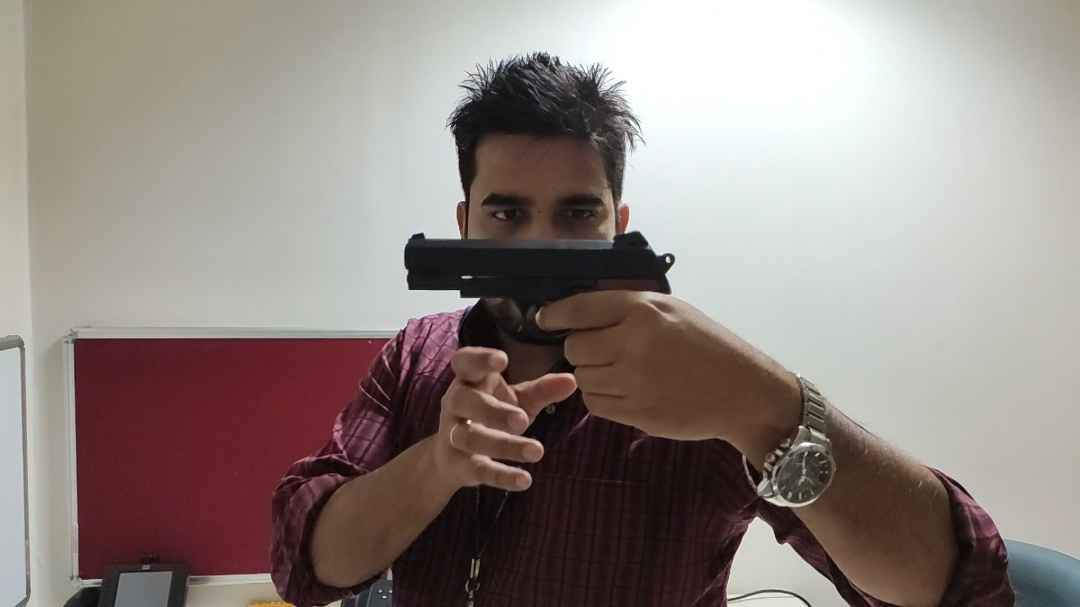gun: (403, 227, 676, 440)
